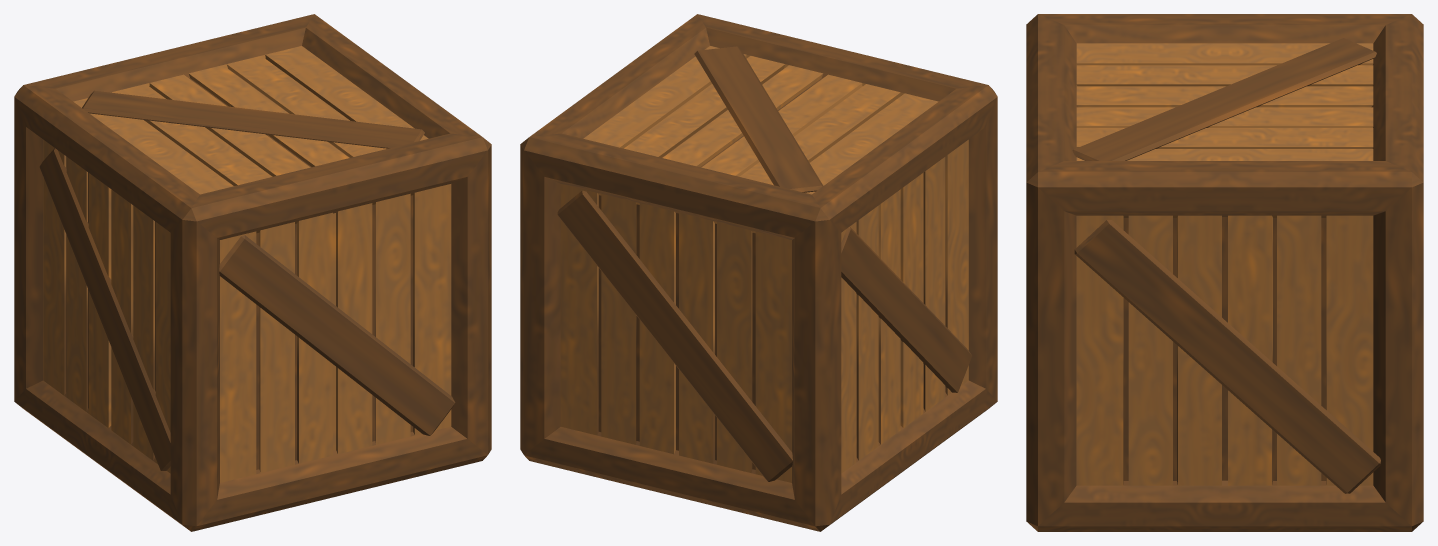
Rendered from wood_Crate.fbx.
3 views of the same model, side by side, from view 1: azimuth 30°, elevation 25°; view 2: azimuth 150°, elevation 25°; view 3: azimuth 270°, elevation 25° (orthographic). The views are drawn at different scales.
Parts seen in each view (by area): view 1: Main Box, Accents; view 2: Main Box, Accents; view 3: Main Box, Accents.
Boxes of the visible parts, bbox=[...] form: Main Box: bbox=[14, 14, 491, 531]; Accents: bbox=[39, 90, 455, 470]; Main Box: bbox=[520, 14, 997, 531]; Accents: bbox=[557, 46, 971, 481]; Main Box: bbox=[1026, 14, 1423, 531]; Accents: bbox=[1072, 38, 1380, 493].
Bounding box in the file's own units: 100 × 100 × 100.
